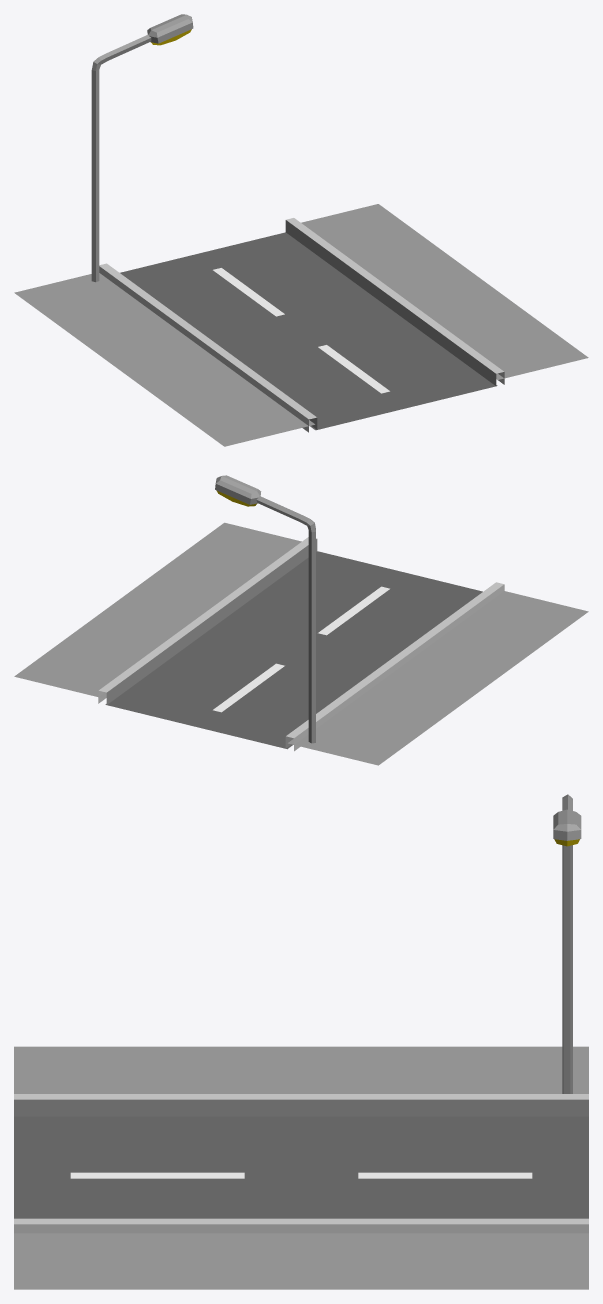
The model's file is Road_Tile_1.fbx.
3 renders of one model, top to bottom at view 1: azimuth 30°, elevation 25°; view 2: azimuth 150°, elevation 25°; view 3: azimuth 270°, elevation 25°, orthographic. The views are drawn at different scales.
Parts seen in each view (by area): view 1: Road_1, Light_1; view 2: Road_1, Light_1; view 3: Road_1, Light_1.
Part boxes in pixels (x1,y1,x2,y2): Road_1: [14, 204, 588, 446]; Light_1: [91, 14, 193, 282]; Road_1: [14, 522, 588, 765]; Light_1: [215, 475, 315, 743]; Road_1: [14, 1046, 588, 1289]; Light_1: [553, 794, 581, 1093].
Bounding box in the file's own units: 4 × 2.62 × 4.
